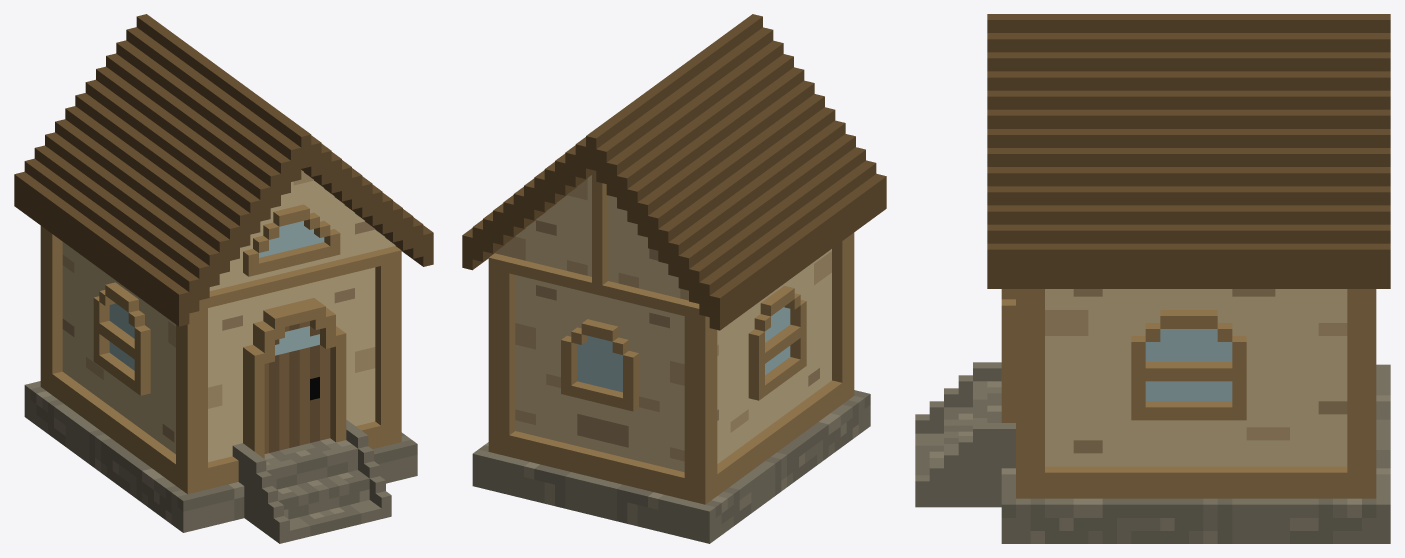
Rendered from house3.vox.obj.
3 renders of one model, left to right at view 1: azimuth 30°, elevation 25°; view 2: azimuth 150°, elevation 25°; view 3: azimuth 270°, elevation 25°, orthographic. The views are drawn at different scales.
Size of the model in its own units: 2.5 by 3.5 by 3.3.
1 material, 1 textured.
